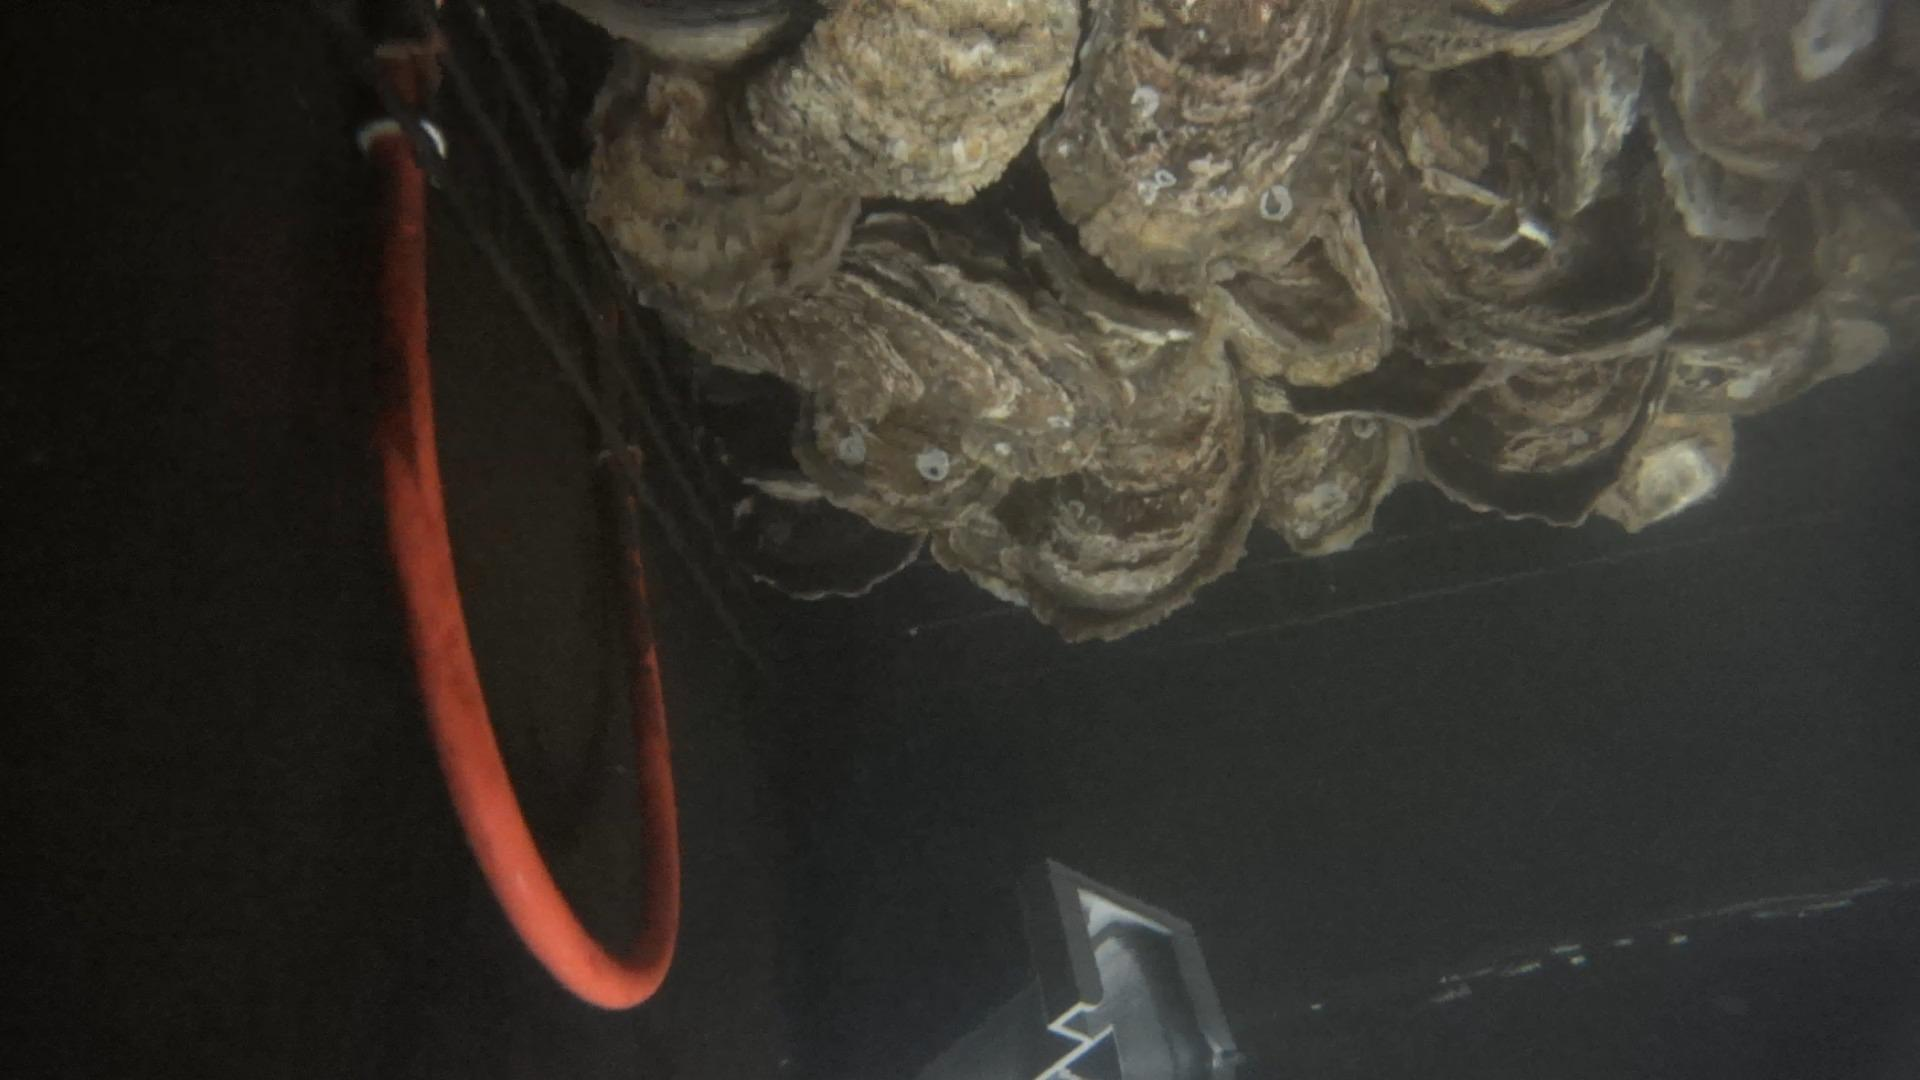3: (1423, 353, 1660, 521), (1261, 411, 1415, 554)
Oyster-Closed: (767, 211, 1116, 531), (1542, 26, 1648, 216)
Oyster-Open: (934, 225, 1262, 638), (1040, 0, 1379, 290), (587, 45, 860, 371), (746, 0, 1081, 199)
